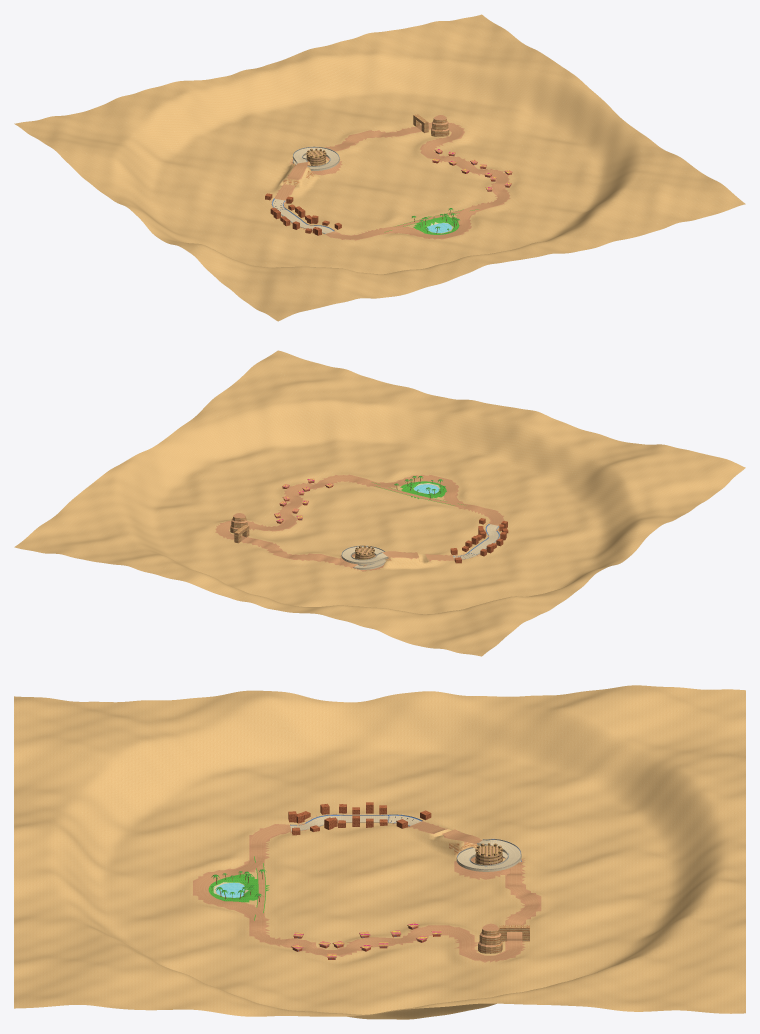
The picture shows the model from 3 angles, top to bottom: view 1: azimuth 30°, elevation 25°; view 2: azimuth 150°, elevation 25°; view 3: azimuth 270°, elevation 25°; orthographic projection. The views are drawn at different scales.
Parts seen in each view (by area): view 1: Desert, Houses, Road 08 spiral, Road 02 trail, Road 04 trail, Road 05 trail, Road 03 trail; view 2: Desert, Houses, Road 08 spiral, Road 03 trail, Road 04 trail, Road 02 trail, Road 07 trail; view 3: Desert, Houses, Road 08 spiral, Road 02 trail, Road 05 trail, Road 03 trail, Road 07 trail, Road 04 trail, Road 06 trail, Road 01 street, Butte, Tent Roofs.
Part boxes in pixels (box(x1,y1,x2,y2)): Desert: box(14, 14, 745, 321); Houses: box(265, 193, 341, 235); Road 08 spiral: box(292, 146, 339, 170); Road 02 trail: box(325, 226, 425, 239); Road 04 trail: box(479, 169, 508, 208); Road 05 trail: box(422, 139, 483, 173); Road 03 trail: box(421, 205, 483, 238); Desert: box(14, 350, 745, 656); Houses: box(450, 518, 508, 563); Road 08 spiral: box(341, 545, 388, 569); Road 03 trail: box(364, 475, 457, 490); Road 04 trail: box(286, 475, 368, 499); Road 02 trail: box(444, 489, 503, 525); Road 07 trail: box(265, 543, 356, 567); Desert: box(14, 685, 745, 1019); Houses: box(288, 802, 431, 835); Road 08 spiral: box(456, 838, 521, 871); Road 02 trail: box(216, 824, 291, 878); Road 05 trail: box(350, 925, 474, 948); Road 03 trail: box(193, 871, 265, 922); Road 07 trail: box(507, 862, 540, 922); Road 04 trail: box(250, 922, 360, 955); Road 06 trail: box(459, 919, 522, 960); Road 01 street: box(290, 814, 388, 831); Butte: box(478, 923, 502, 953); Tent Roofs: box(291, 922, 441, 957).
Bounding box in the file's own units: 880 × 61.33 × 860.
19 materials, 19 textured.
